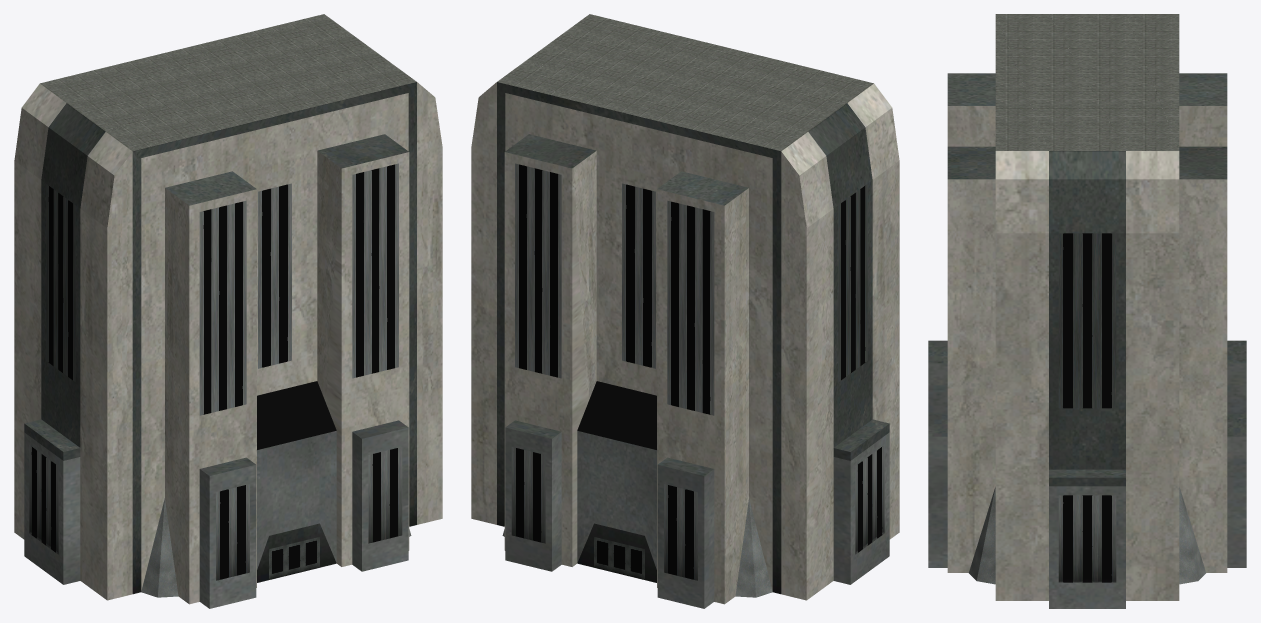
File: thm_corl_imprv_building_s05_r0_mesh_l3.fbx
3 renders of one model, left to right at view 1: azimuth 30°, elevation 25°; view 2: azimuth 150°, elevation 25°; view 3: azimuth 270°, elevation 25°, orthographic.
Visible parts, largest first — view 1: mesh_node; view 2: mesh_node; view 3: mesh_node.
Part boxes in pixels (<box>): mesh_node: <box>14,14,442,608</box>; mesh_node: <box>471,14,899,608</box>; mesh_node: <box>928,14,1246,608</box>.
Bounding box in the file's own units: 43.6 × 50 × 33.
